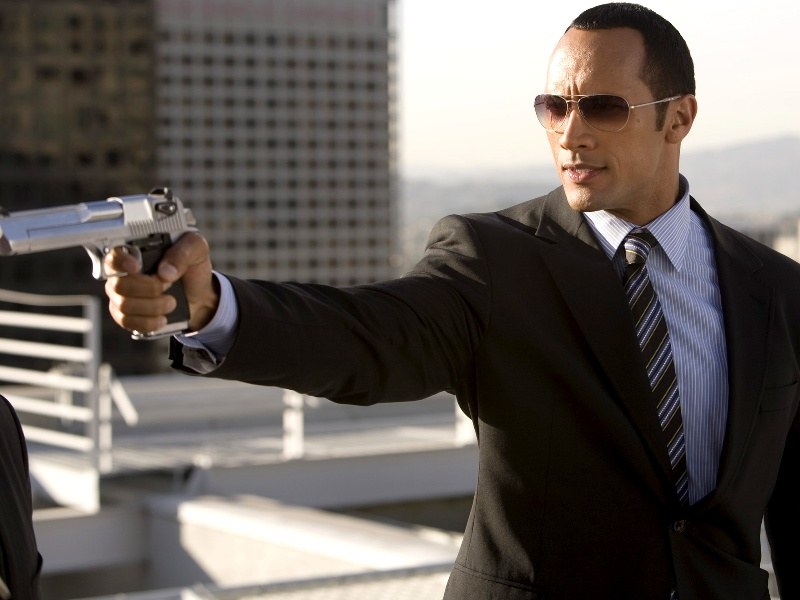person: (102, 3, 800, 600)
weapon: (1, 187, 198, 341)
